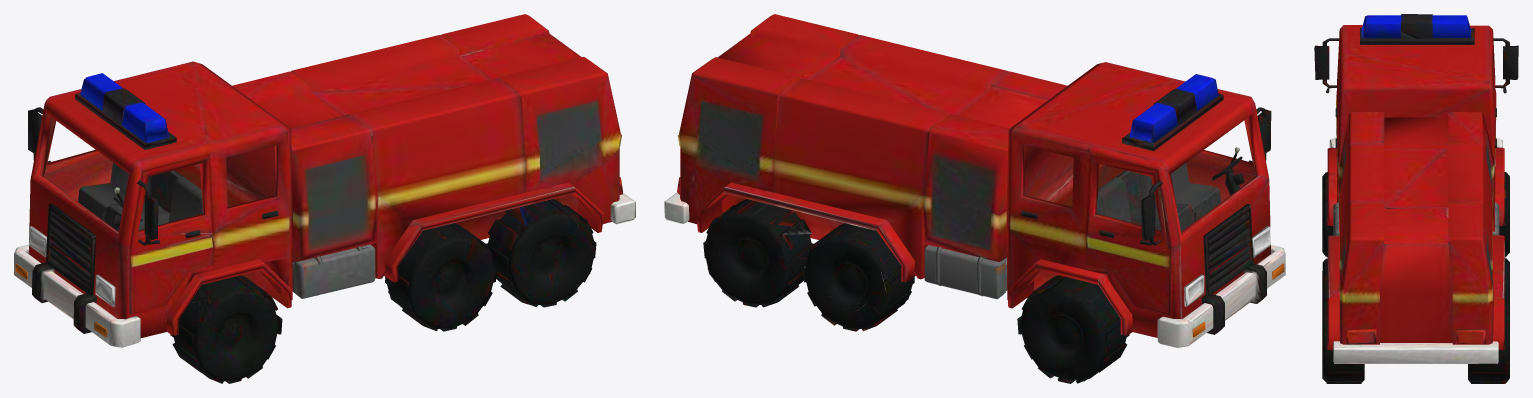
The model's file is 49-fire-truck.glb.
3 views of the same model, side by side, from view 1: azimuth 30°, elevation 25°; view 2: azimuth 150°, elevation 25°; view 3: azimuth 270°, elevation 25° (orthographic). The views are drawn at different scales.
Parts seen in each view (by area): view 1: geometry_0; view 2: geometry_0; view 3: geometry_0.
Boxes of the visible parts, x1,y1,x2,y2 form: geometry_0: (14, 14, 635, 383); geometry_0: (664, 14, 1285, 383); geometry_0: (1314, 14, 1518, 383).
Bounding box in the file's own units: 0.9502 × 0.4453 × 0.3872.
1 material, 1 textured.
